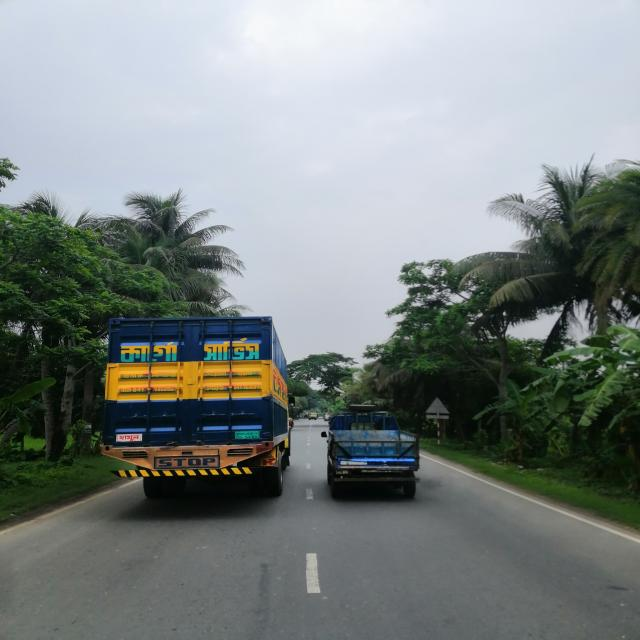Pick-up-van: (322, 406, 425, 504)
Truck: (99, 308, 294, 504)
